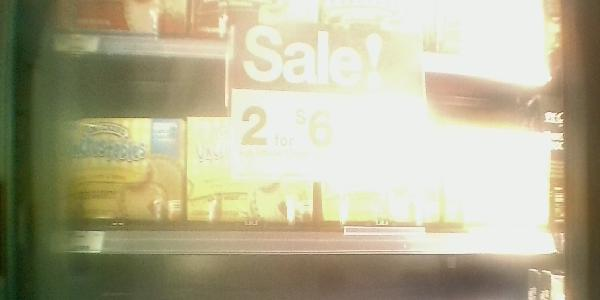icecream: (52, 119, 186, 224), (189, 121, 314, 233), (319, 121, 437, 236), (442, 124, 544, 239)
